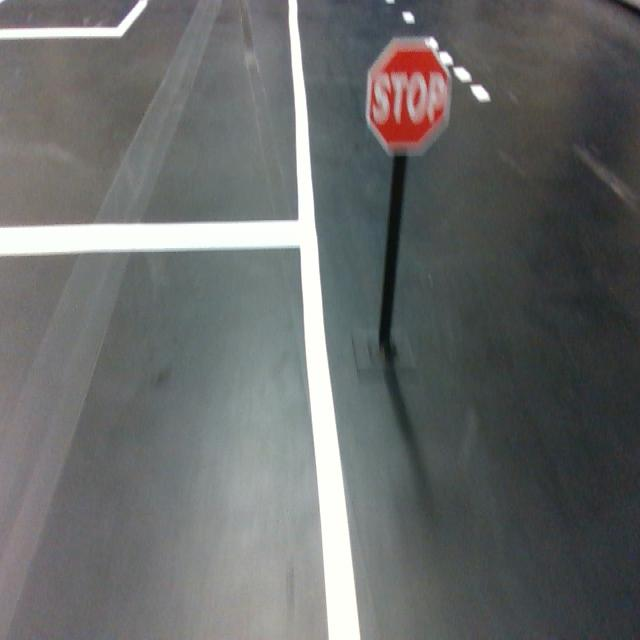stop-sign: (365, 35, 453, 159)
